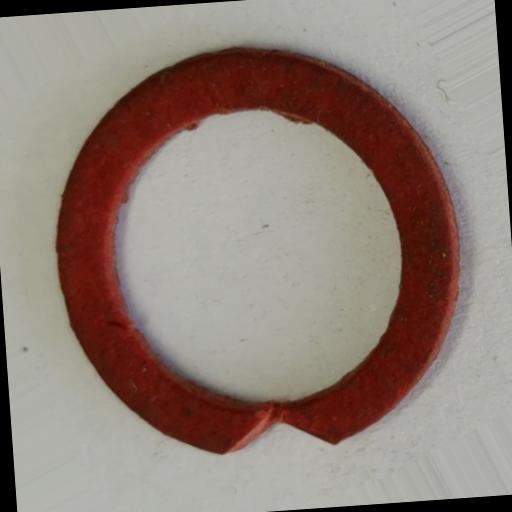defect: (222, 412, 338, 456)
